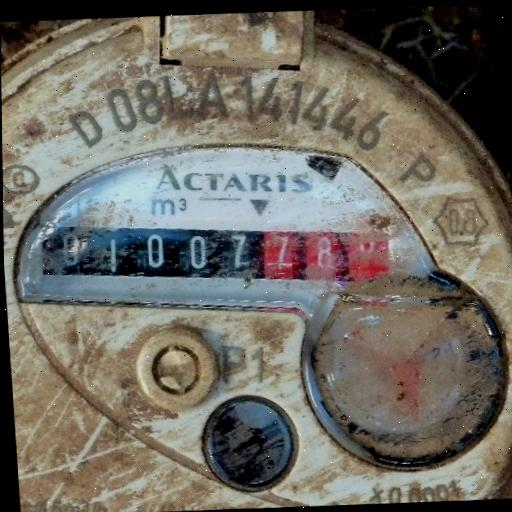0: (138, 226, 172, 278), (181, 227, 215, 279), (55, 224, 88, 276)
1: (95, 226, 128, 277)
7: (261, 228, 303, 282), (222, 227, 254, 280)
8: (302, 228, 342, 283)
border_water_meter_number: (38, 207, 393, 301)
